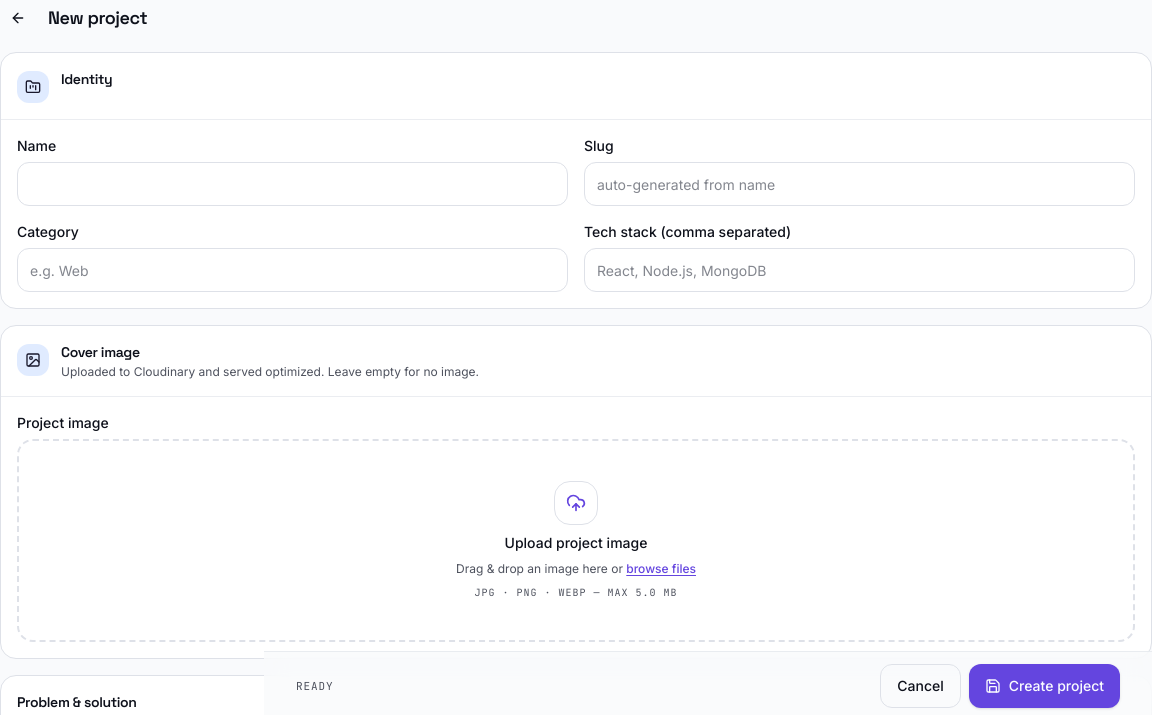
ProjectEditor — dirty state lifecycle › 10. a failed creation keeps the editor dirty
This screenshot has width=1152, height=715.
In the field labelled "Name": (292, 184) [17,162,568,206], type "Alpha"
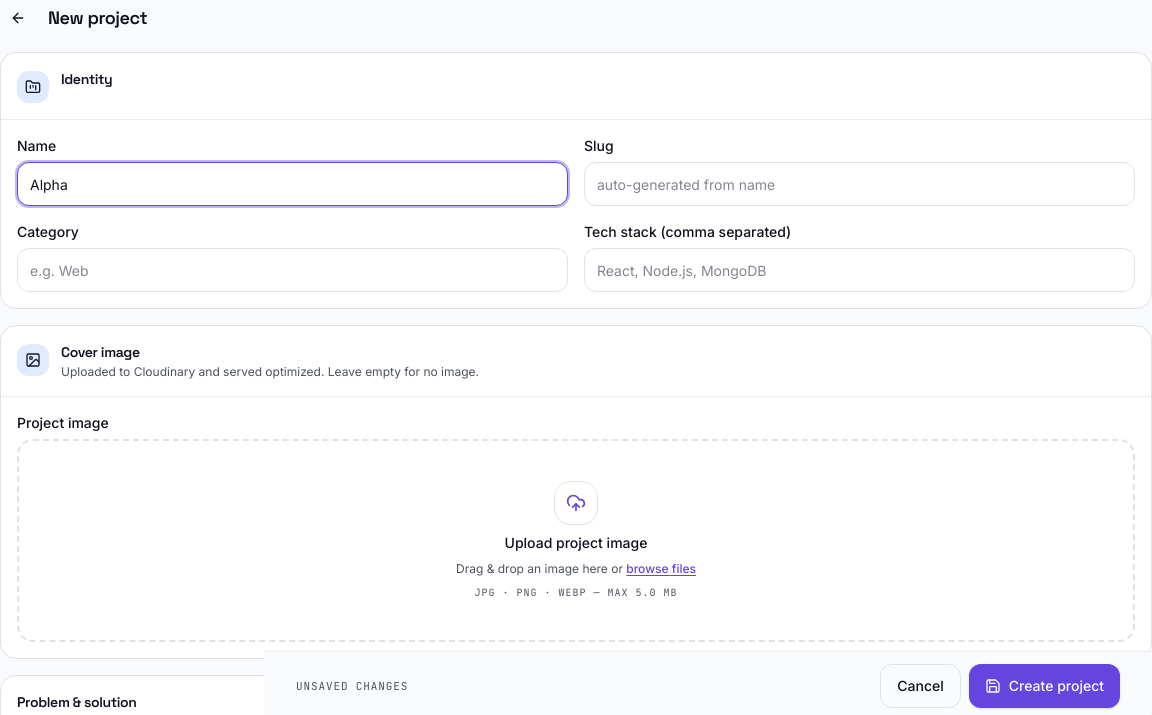
In the field labelled "Category": (292, 270) [17,248,568,292], type "Web app"
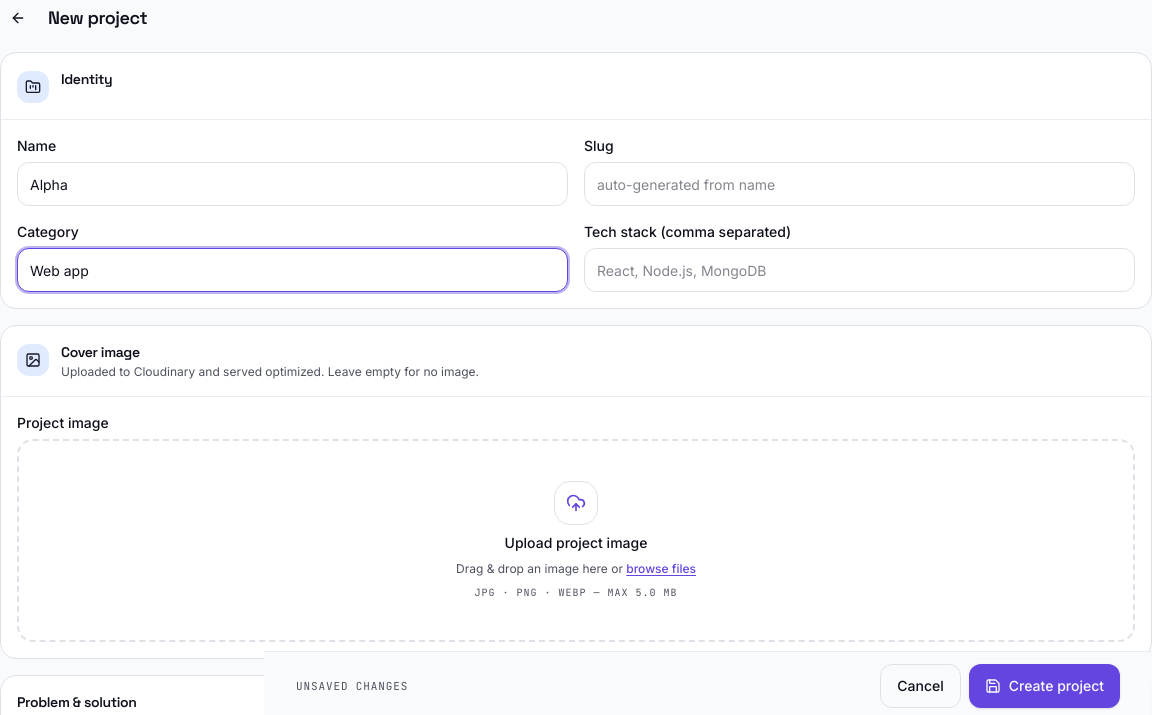
Click the button "Create project": (1044, 686) [969,664,1120,708]
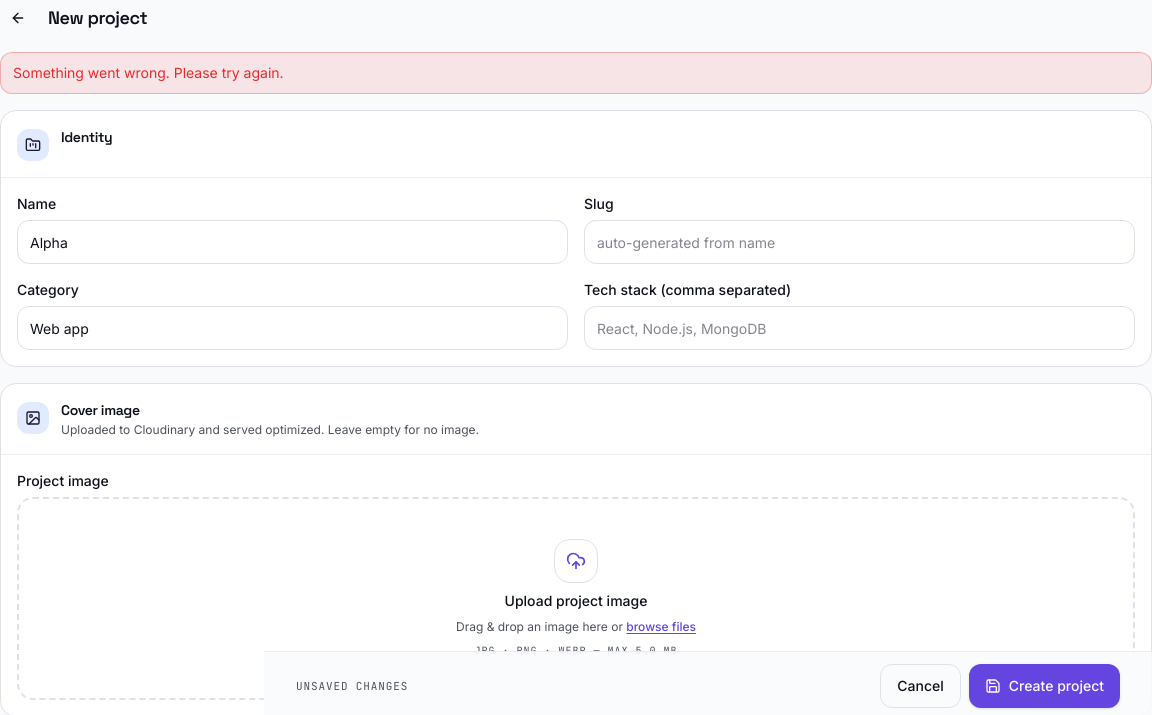
Expected: the text "Unsaved changes" is shown, [296,678,408,694]
Expected: the message "Something went wrong. Please try again." is shown, [0,52,1151,94]
